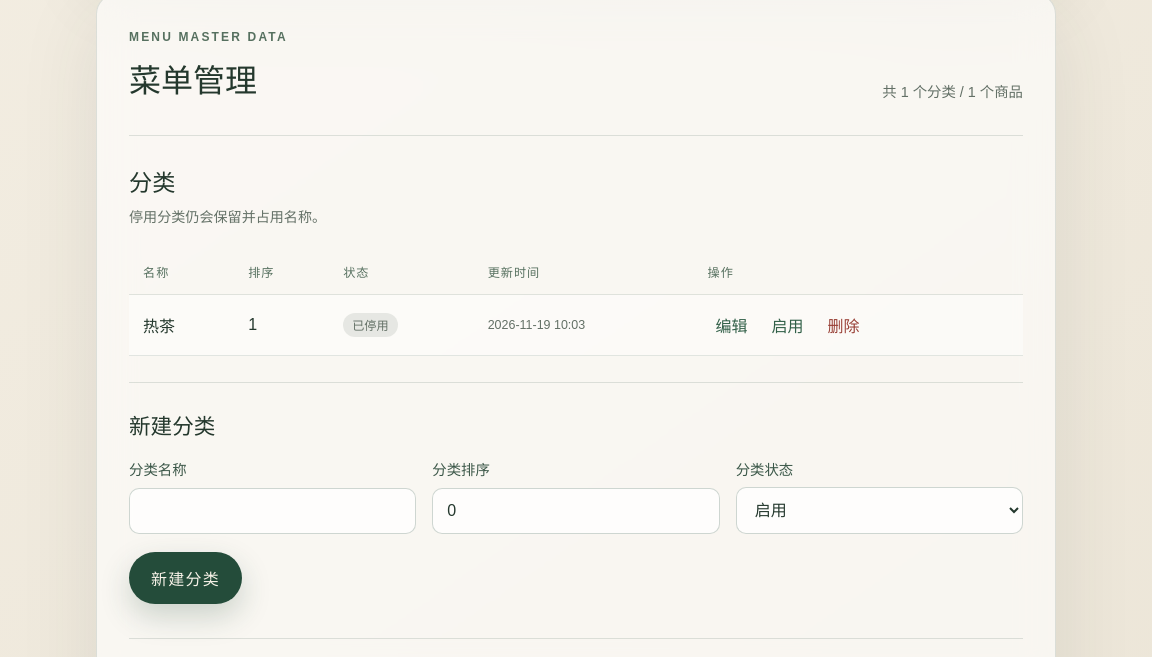
Test case: product menu management for signed-in staff › keeps rows and shows the category, product and variant reference messages
(page scrolled)
Check: the heading "菜单管理" is shown, box [129, 63, 257, 99]
Click the button with aria-label "删除分类 热茶". click: (844, 325)
box: [820, 308, 868, 342]
(page scrolled)
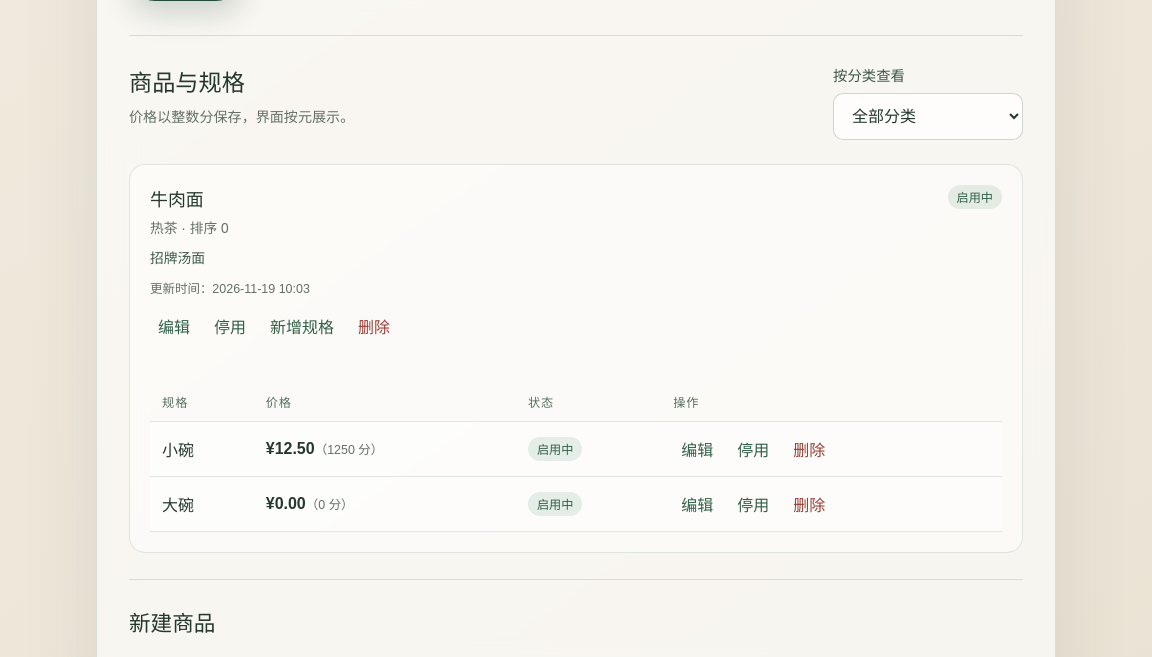
Click the button with aria-label "删除商品 牛肉面". click: (374, 326)
box: [350, 309, 398, 343]
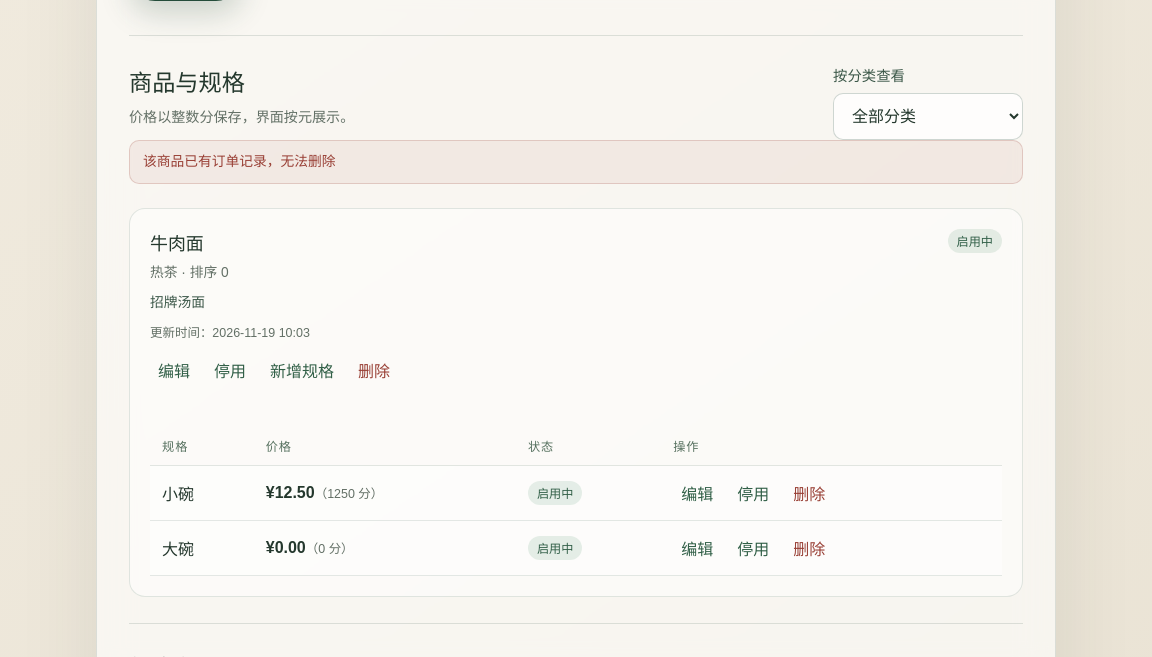
Check: the element "牛肉面" is shown, box [129, 208, 1023, 597]
Check: the text "该商品已有订单记录，无法删除" is shown, box [129, 140, 1023, 184]
Click the button with aria-label "删除规格 大碗". click: (809, 548)
box: [785, 531, 833, 565]
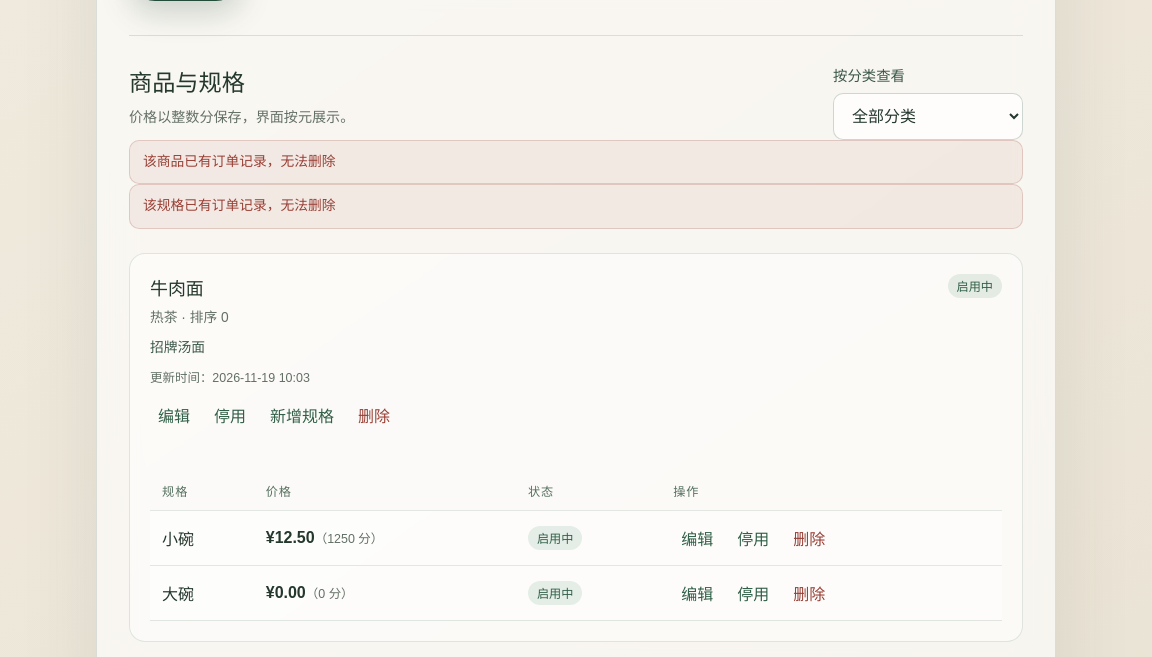
Check: the text "大碗" is shown, box [150, 565, 254, 620]
Check: the text "该规格已有订单记录，无法删除" is shown, box [129, 184, 1023, 229]
